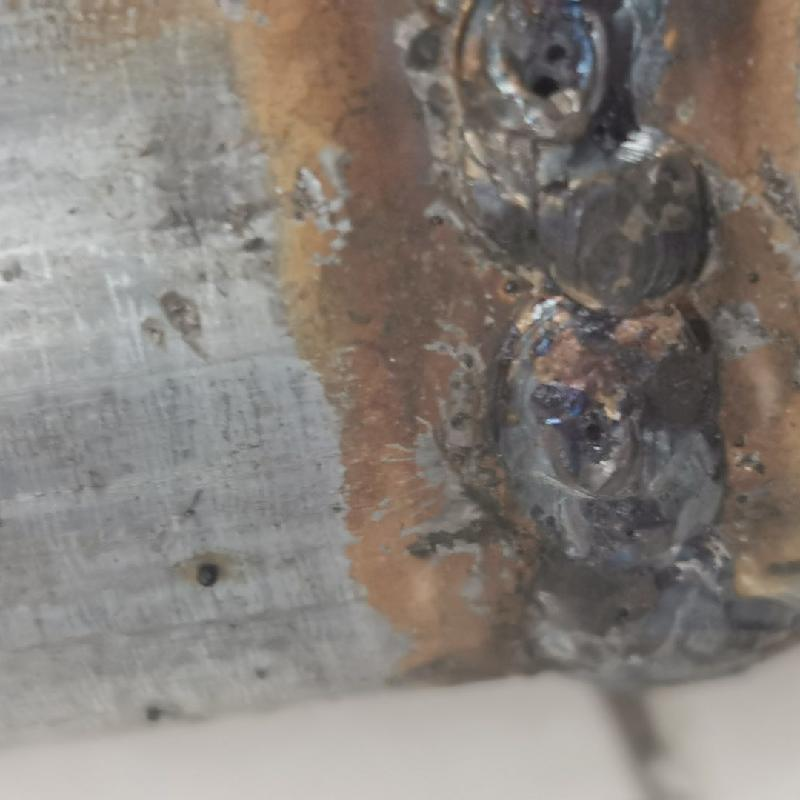Surface_pores: (533, 34, 579, 109), (573, 390, 618, 457)
crater: (448, 2, 635, 162)
wrong_size: (496, 176, 739, 682)
